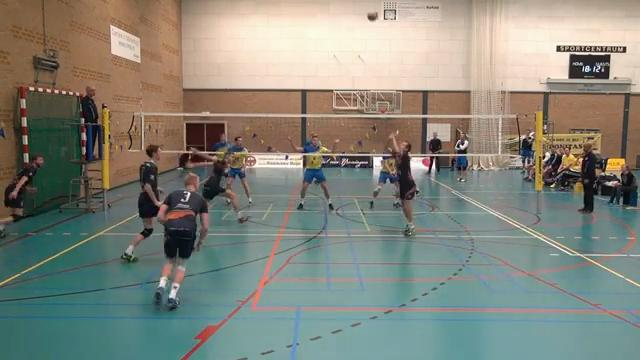Player: (154, 173, 208, 309), (121, 144, 161, 261), (191, 148, 248, 222), (287, 133, 338, 210), (0, 155, 43, 237), (369, 151, 400, 208), (227, 136, 251, 204), (211, 133, 229, 157)
Set: (382, 125, 423, 241)
ball: (366, 9, 379, 22)
